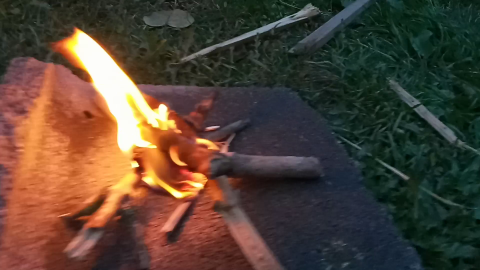fire: (51, 26, 226, 187)
